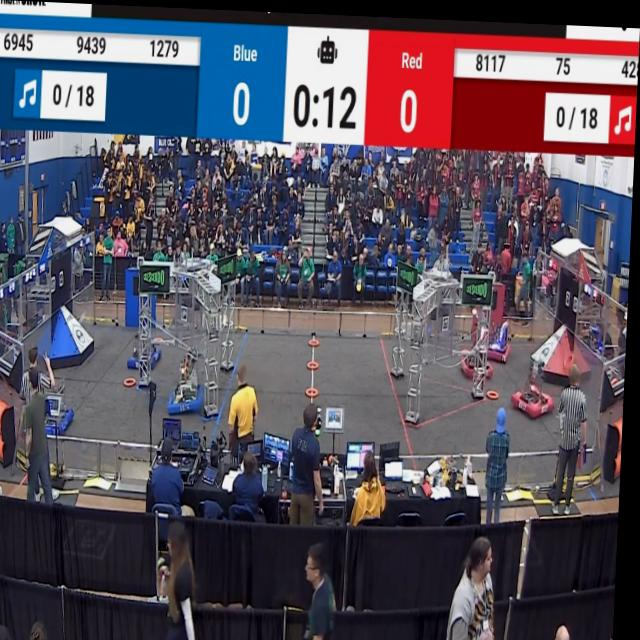Robot: (32, 357, 85, 441), (461, 296, 501, 377), (518, 345, 563, 416), (169, 342, 209, 419), (132, 317, 168, 375), (489, 310, 517, 360)
